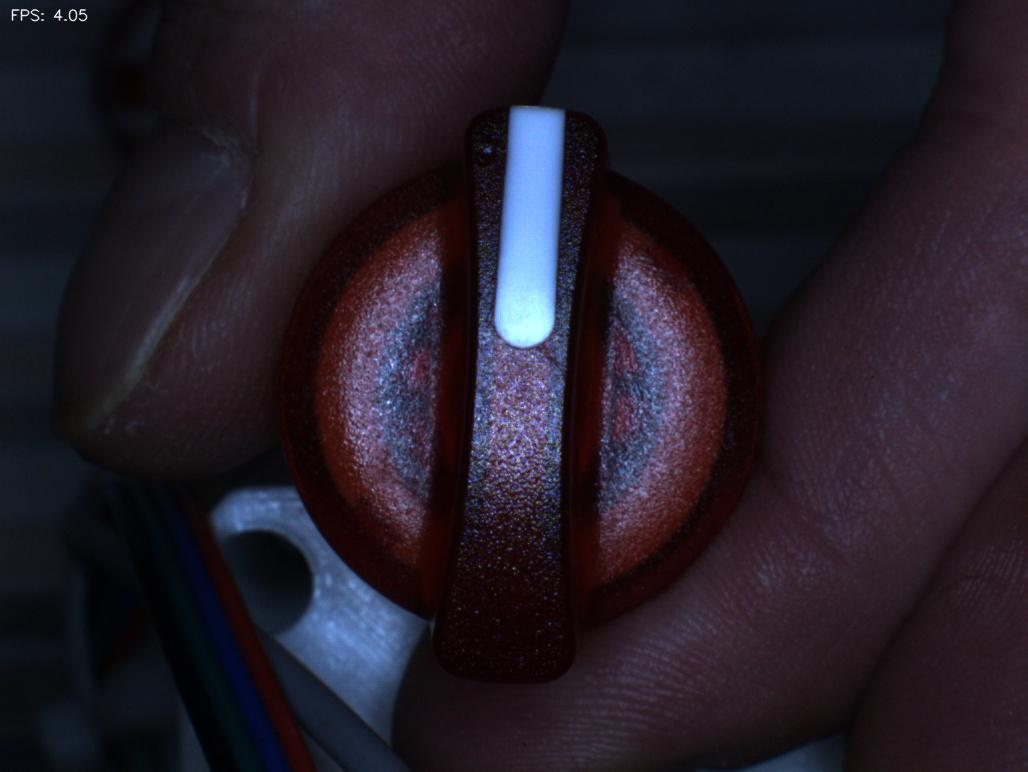Choc: (433, 97, 521, 187)
